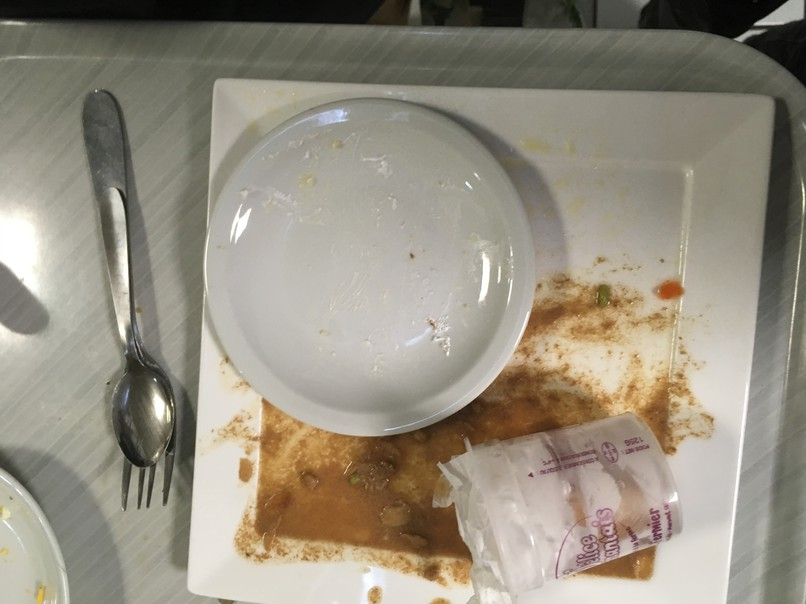cutlery: (61, 80, 184, 519)
orga: (267, 448, 432, 569)
trash: (454, 393, 689, 585)
